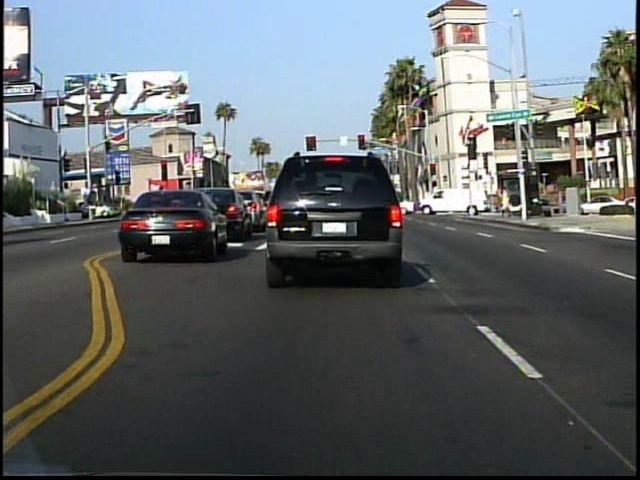person: (499, 184, 515, 221)
